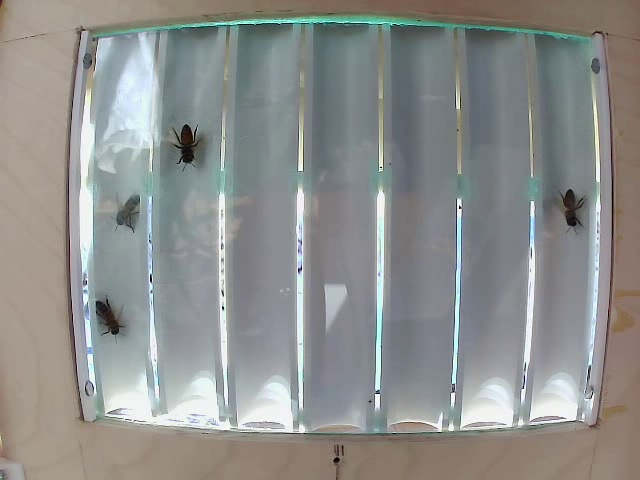bee: (91, 294, 128, 347), (176, 122, 207, 176), (114, 192, 146, 236), (566, 177, 590, 235)
